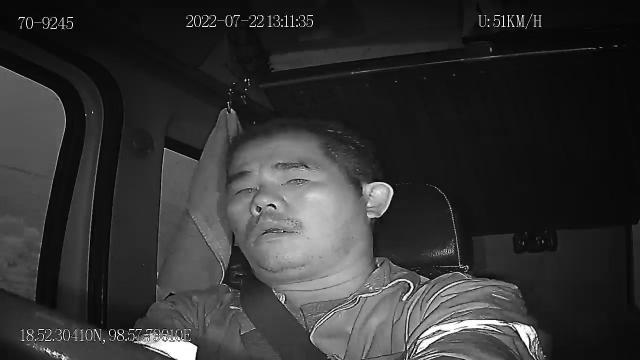SafeDriving: (276, 165, 317, 192)
Seatbelt: (238, 286, 332, 360)
